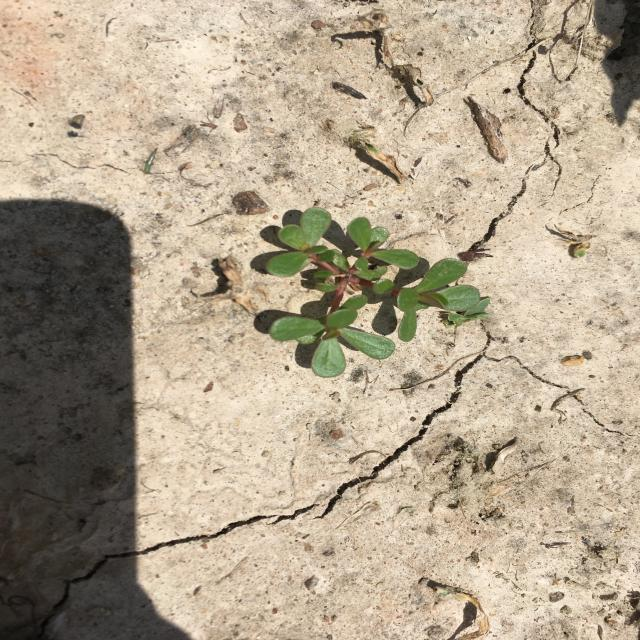Purslane: (267, 206, 480, 378)
